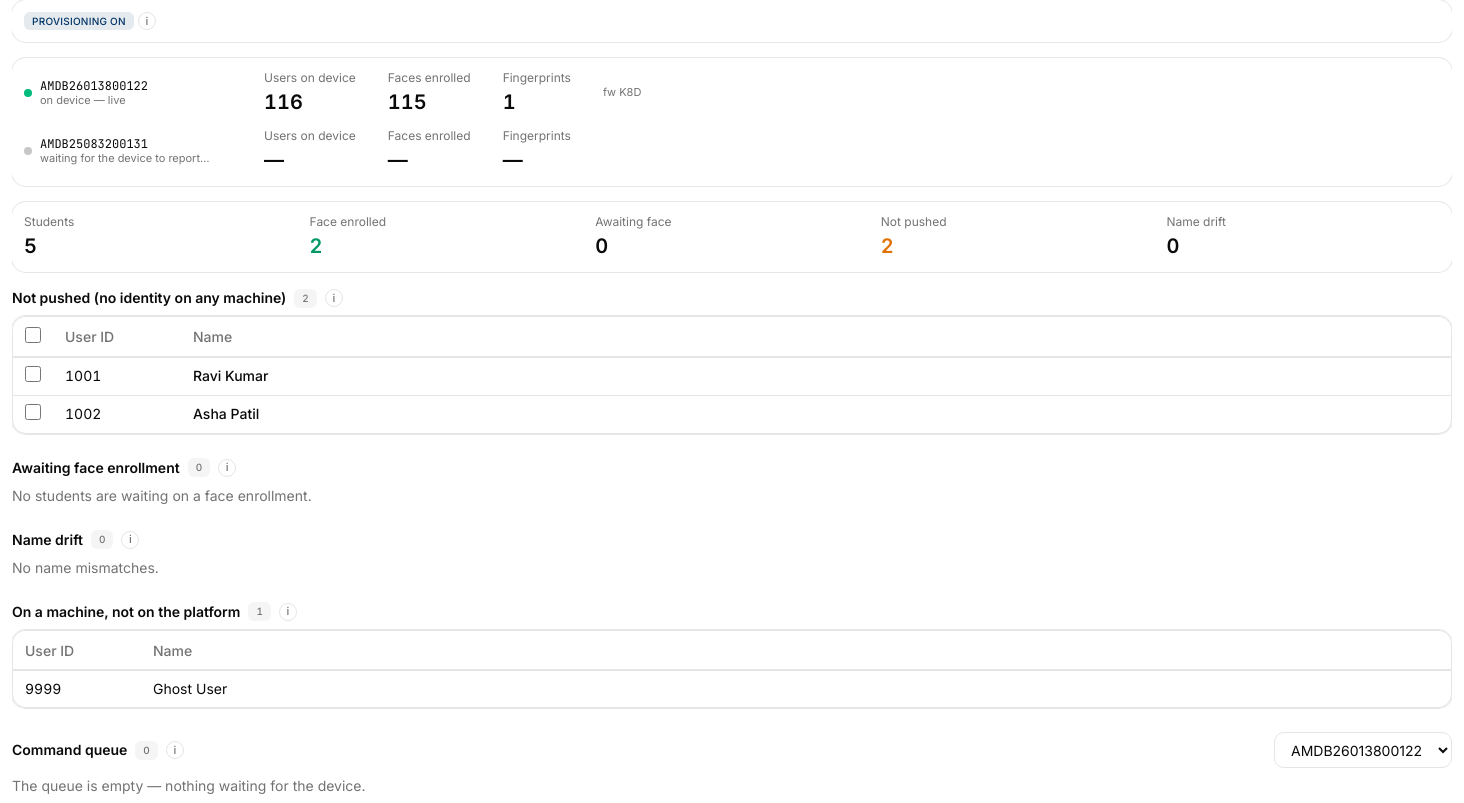
Test: DeviceSync (institute-wide) › select-all in a section selects every row in it
What coordinates should you click on to do the following:
click the checkbox named "Select all in Not pushed"
I would click on:
 (33, 334)
Its box is [25,326,41,342].
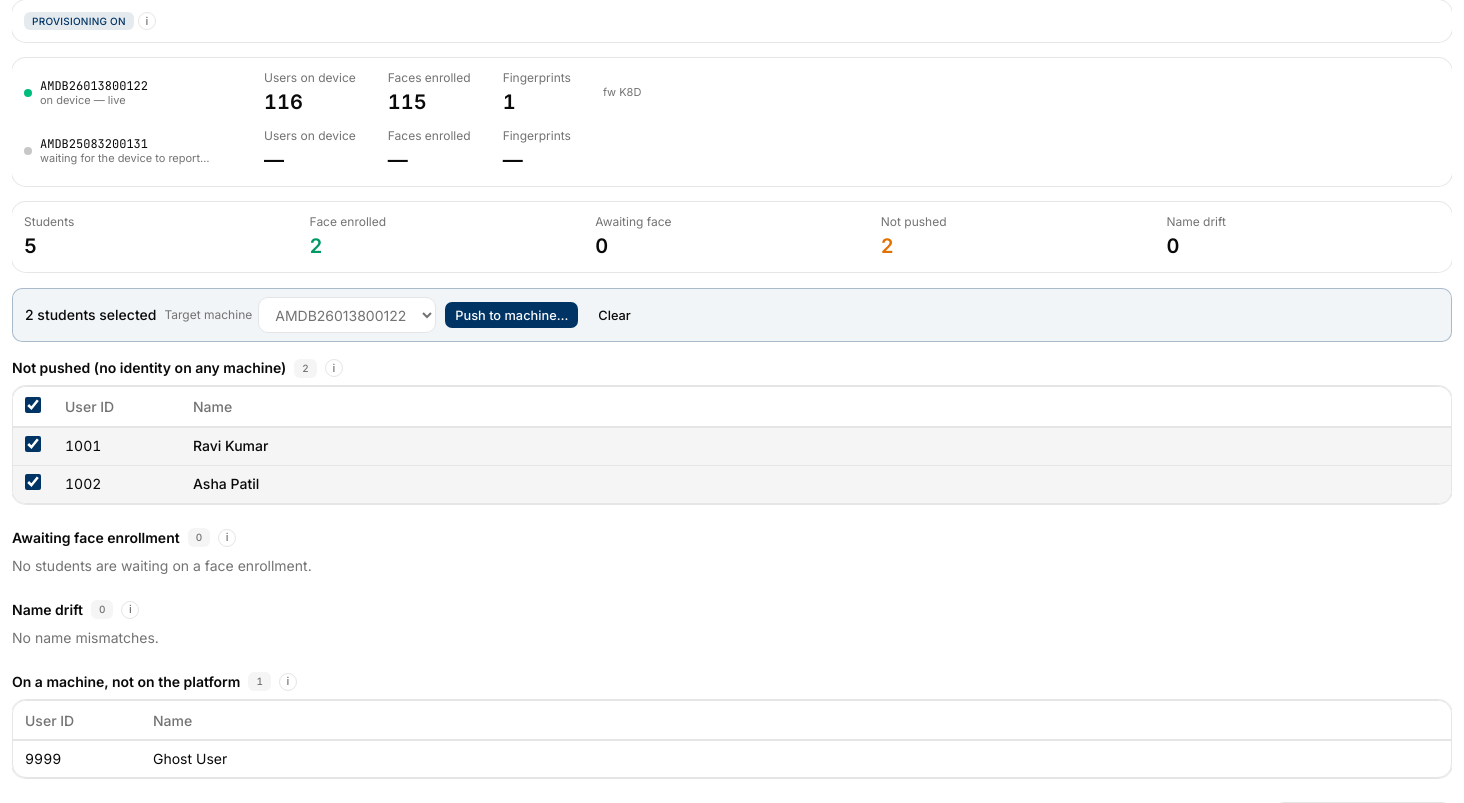
Check: the text "2 students selected" is shown, box [25,305,156,325]
